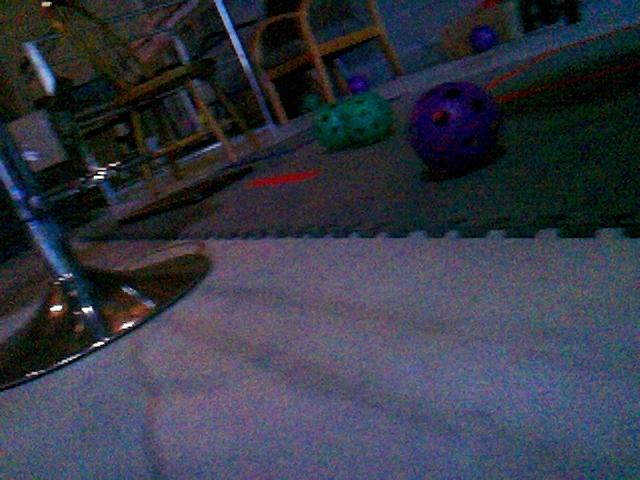Green: (340, 93, 393, 144), (313, 99, 359, 150), (469, 24, 500, 54), (347, 74, 370, 94), (301, 93, 322, 114)
Purple: (407, 82, 503, 172)
